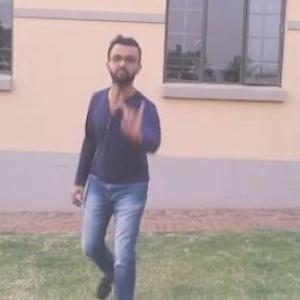takeoff-hand: (113, 83, 150, 140)
